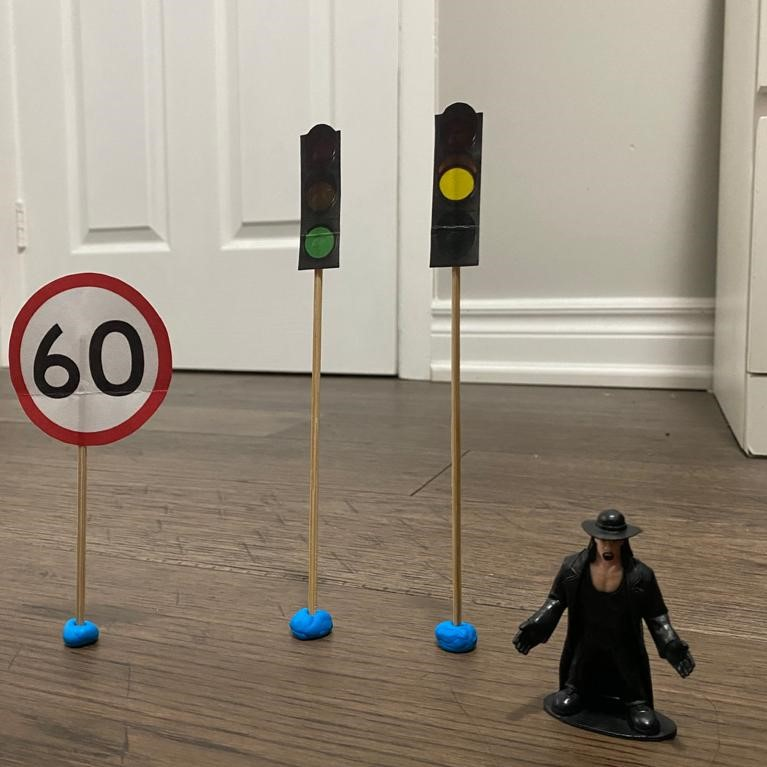Green Traffic Light: (293, 121, 345, 273)
Speed Limit 60: (6, 272, 175, 448)
